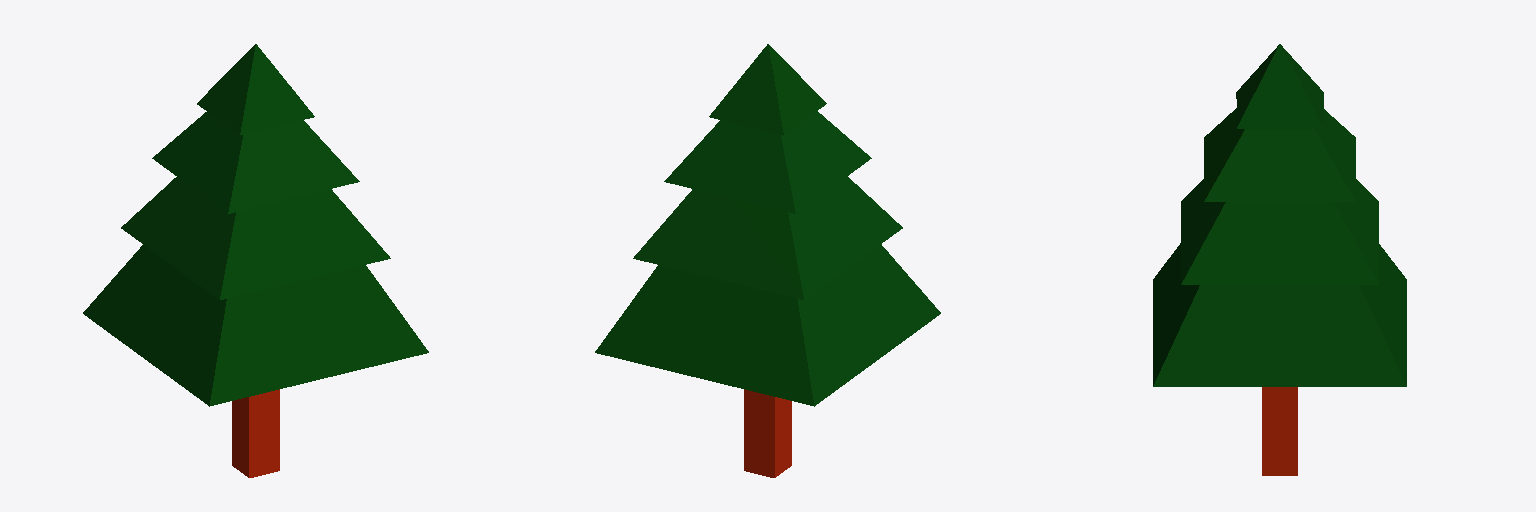
File: PixelTree.obj
3 views of the same model, side by side, from view 1: azimuth 30°, elevation 25°; view 2: azimuth 150°, elevation 25°; view 3: azimuth 270°, elevation 25° (orthographic).
Parts seen in each view (by area): view 1: TreeLayer1_Cube.001, TreeLayer2_Cube.002, TreeLayer2.001_Cube.003, TreeLayer2.002_Cube.004, Stump_Cube; view 2: TreeLayer1_Cube.001, TreeLayer2_Cube.002, TreeLayer2.001_Cube.003, TreeLayer2.002_Cube.004, Stump_Cube; view 3: TreeLayer1_Cube.001, TreeLayer2_Cube.002, TreeLayer2.001_Cube.003, TreeLayer2.002_Cube.004, Stump_Cube.
Part boxes in pixels (left/top/right/bottom): TreeLayer1_Cube.001: left=83, top=245, right=428, bottom=406; TreeLayer2_Cube.002: left=121, top=177, right=390, bottom=299; TreeLayer2.001_Cube.003: left=152, top=112, right=359, bottom=213; TreeLayer2.002_Cube.004: left=197, top=44, right=314, bottom=134; Stump_Cube: left=232, top=389, right=279, bottom=477; TreeLayer1_Cube.001: left=595, top=244, right=940, bottom=406; TreeLayer2_Cube.002: left=633, top=176, right=902, bottom=299; TreeLayer2.001_Cube.003: left=664, top=111, right=871, bottom=213; TreeLayer2.002_Cube.004: left=709, top=44, right=826, bottom=135; Stump_Cube: left=744, top=389, right=791, bottom=477; TreeLayer1_Cube.001: left=1153, top=243, right=1406, bottom=386; TreeLayer2_Cube.002: left=1181, top=179, right=1378, bottom=284; TreeLayer2.001_Cube.003: left=1204, top=108, right=1355, bottom=201; TreeLayer2.002_Cube.004: left=1236, top=44, right=1323, bottom=128; Stump_Cube: left=1262, top=387, right=1297, bottom=475.
Size of the model in its own units: 1 by 1.84 by 1.